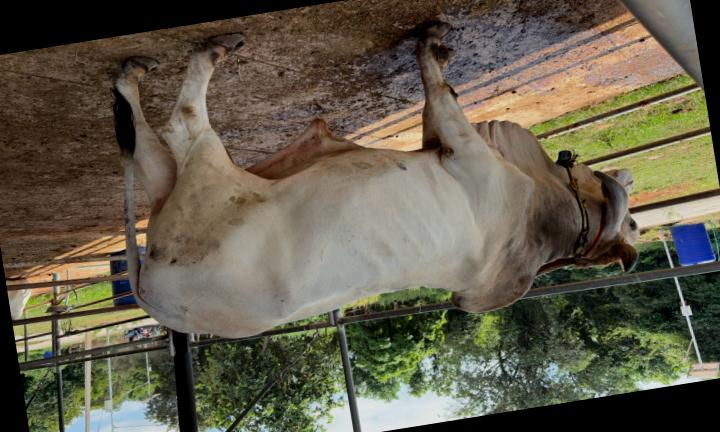Brahman: (110, 23, 638, 337)
